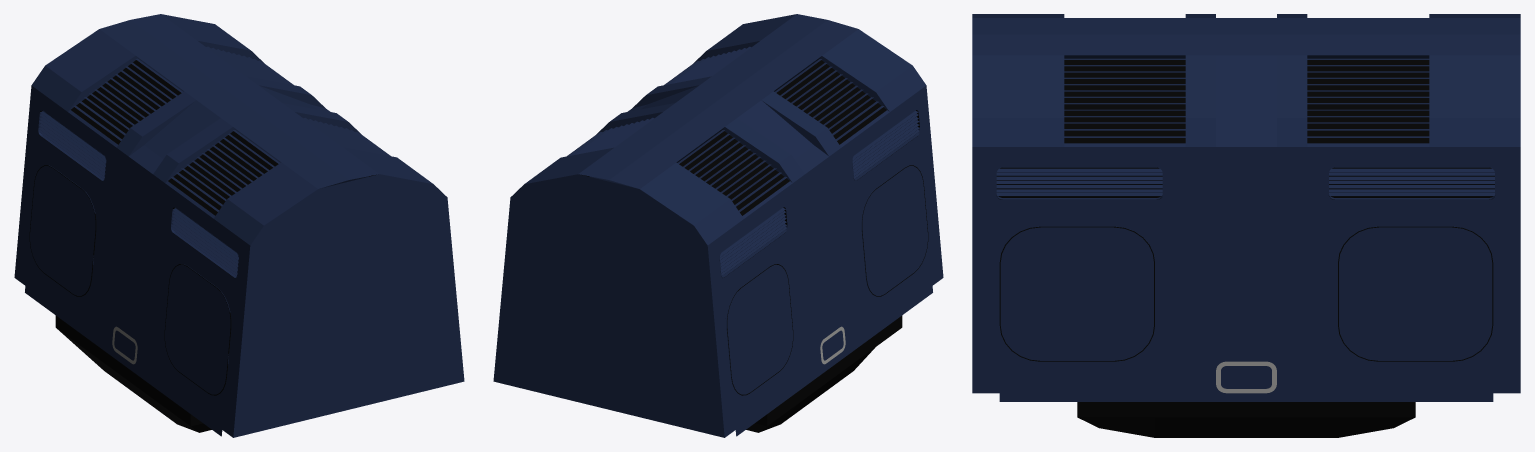
File: type_76_power_pack.fbx
3 views of the same model, side by side, from view 1: azimuth 30°, elevation 25°; view 2: azimuth 150°, elevation 25°; view 3: azimuth 270°, elevation 25° (orthographic). The views are drawn at different scales.
Visible parts, largest first — view 1: Power Pack; view 2: Power Pack; view 3: Power Pack.
Boxes of the visible parts, left/top/right/bottom form: Power Pack: left=14, top=14, right=464, bottom=437; Power Pack: left=493, top=14, right=943, bottom=437; Power Pack: left=972, top=14, right=1520, bottom=437.
Bounding box in the file's own units: 340 × 382 × 554.
